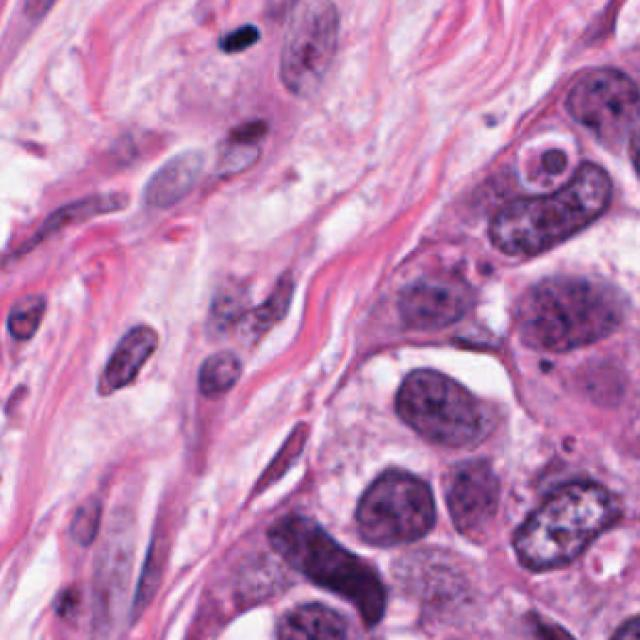fibroblast: (123, 478, 200, 640), (0, 184, 128, 263), (237, 264, 299, 355), (272, 0, 339, 83), (245, 416, 312, 497), (92, 320, 160, 396), (134, 147, 208, 209), (197, 275, 262, 333)
tumor: (260, 510, 391, 623), (489, 157, 616, 256), (509, 482, 622, 569), (506, 269, 622, 352), (390, 364, 499, 451), (566, 64, 640, 155), (390, 273, 469, 332), (445, 455, 499, 537), (395, 477, 432, 551), (353, 473, 390, 541)
unlabeled: (395, 546, 469, 633), (568, 332, 638, 418), (507, 350, 566, 419), (186, 352, 244, 392), (544, 426, 590, 468), (218, 123, 269, 147), (472, 104, 506, 133), (539, 145, 568, 173)
